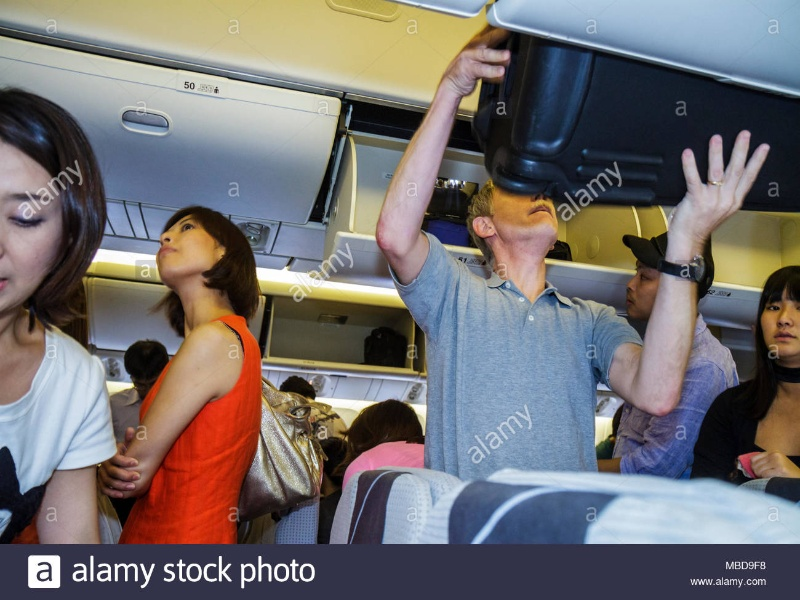close_bin: (2, 11, 341, 258)
open_bin: (325, 59, 650, 320), (641, 203, 799, 310)
